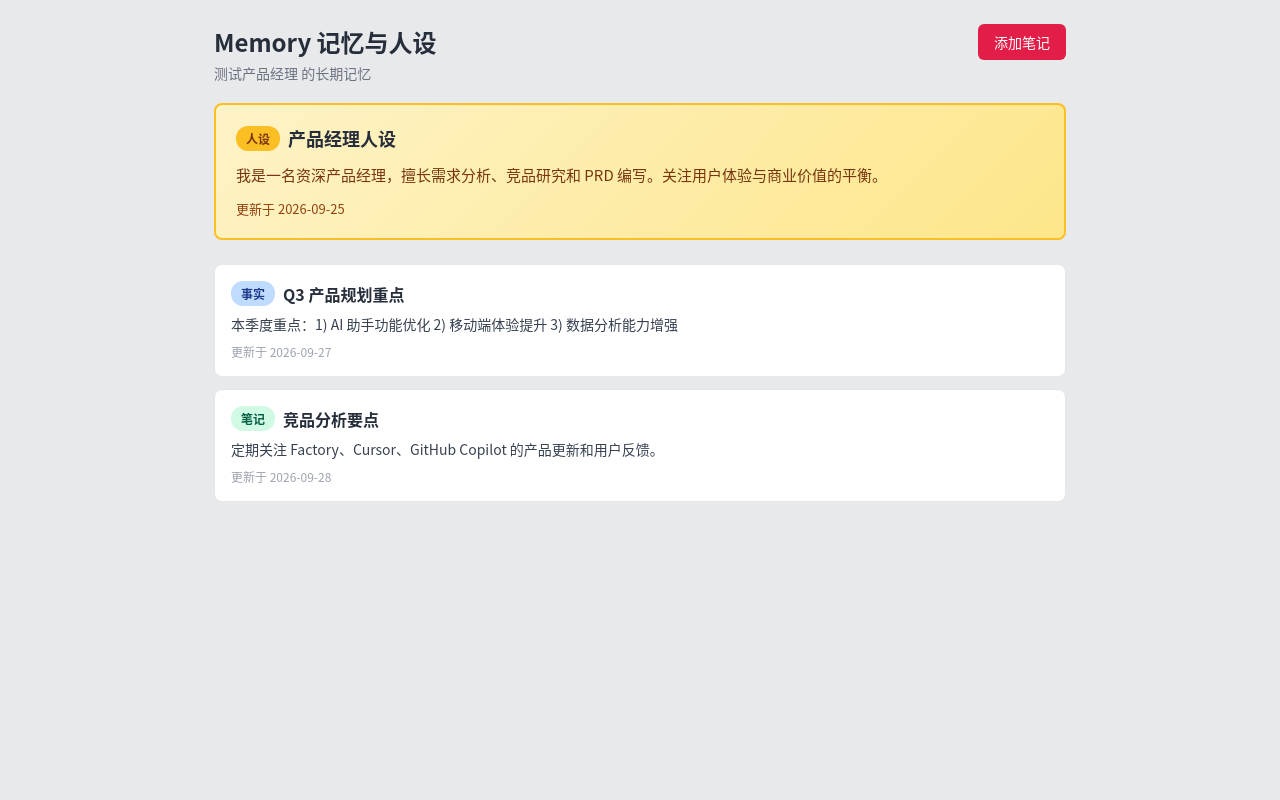
Test: TC-MEMORY-INTERACTIVE: Memory 添加笔记真反馈 › 场景 2: 填写+添加 → 笔记出现 + feedback › should add note to list and show feedback banner when submitted
// 1. 打开模态框
Click the button with class "btn-add".
click(1022, 42)  # box [978,24,1066,60]
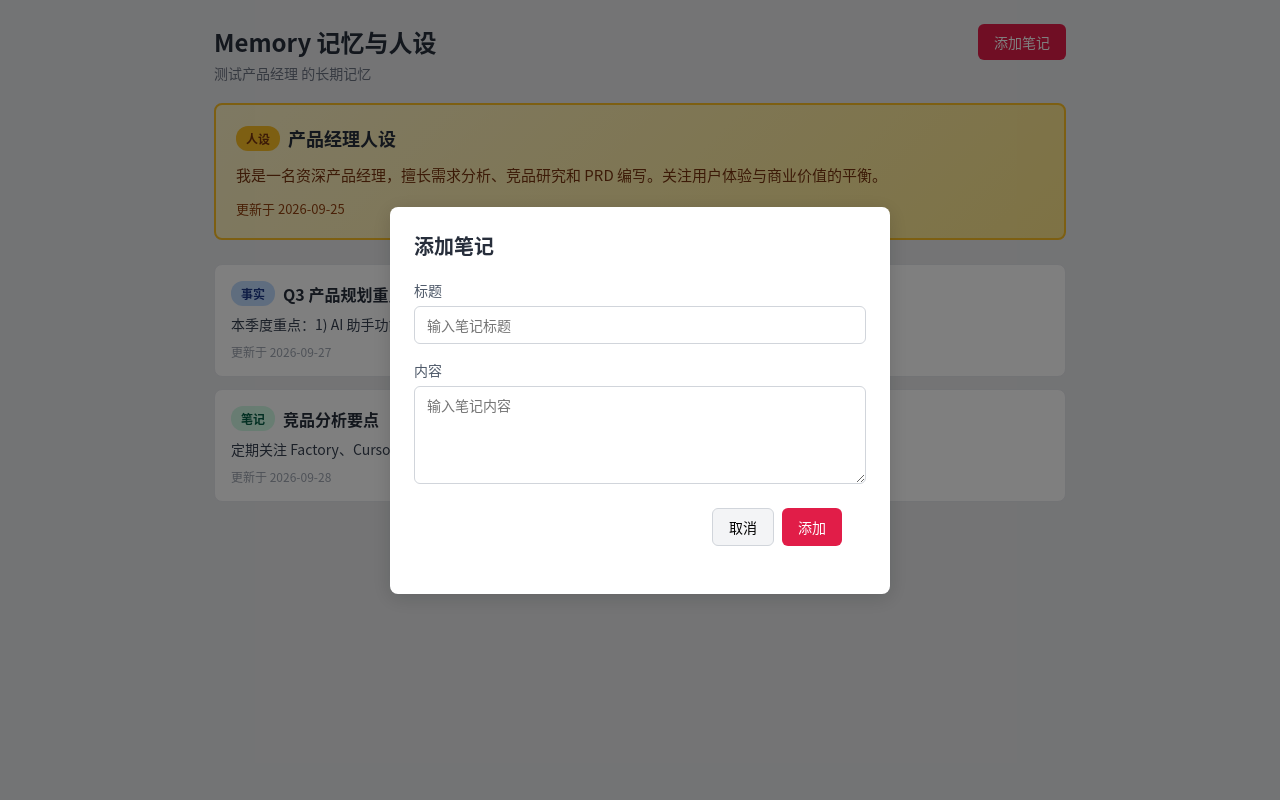
Expected: the element with class "modal-overlay" is shown
Type "测试笔记标题" into the field with placeholder "输入笔记标题".
click(640, 324); type("测试笔记标题")  # box [414,306,866,344]
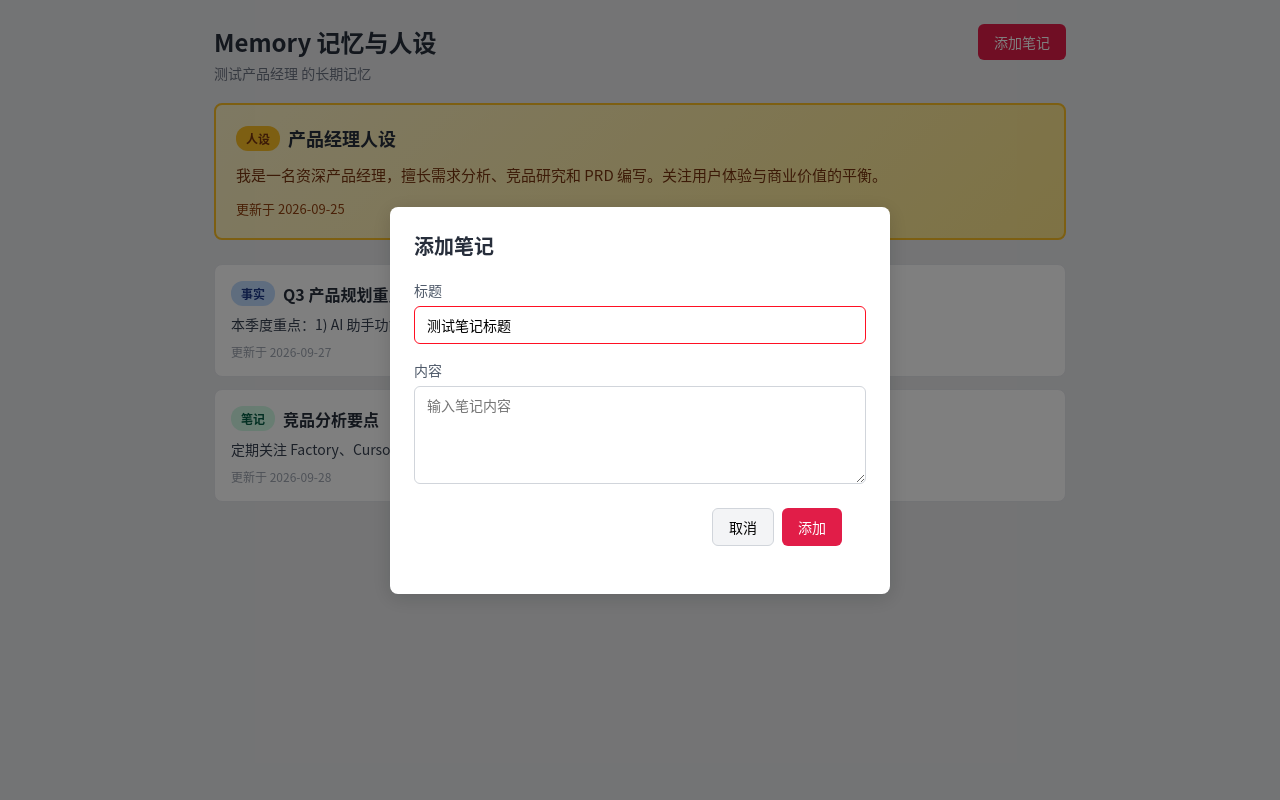
Type "这是测试笔记内容" into the text box with placeholder "输入笔记内容".
click(640, 434); type("这是测试笔记内容")  # box [414,386,866,484]
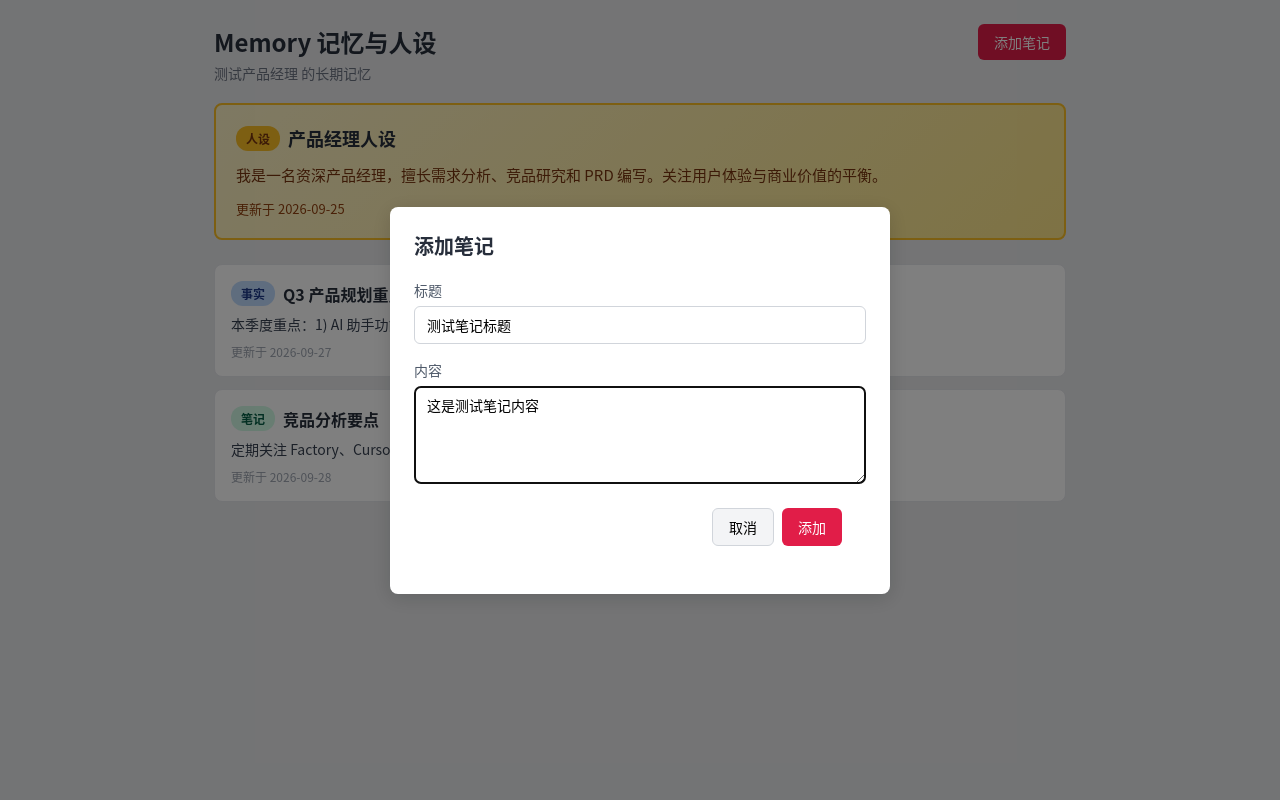
//  3. 点击添加
Click the button with class "btn-confirm".
click(812, 526)  # box [782,508,842,546]
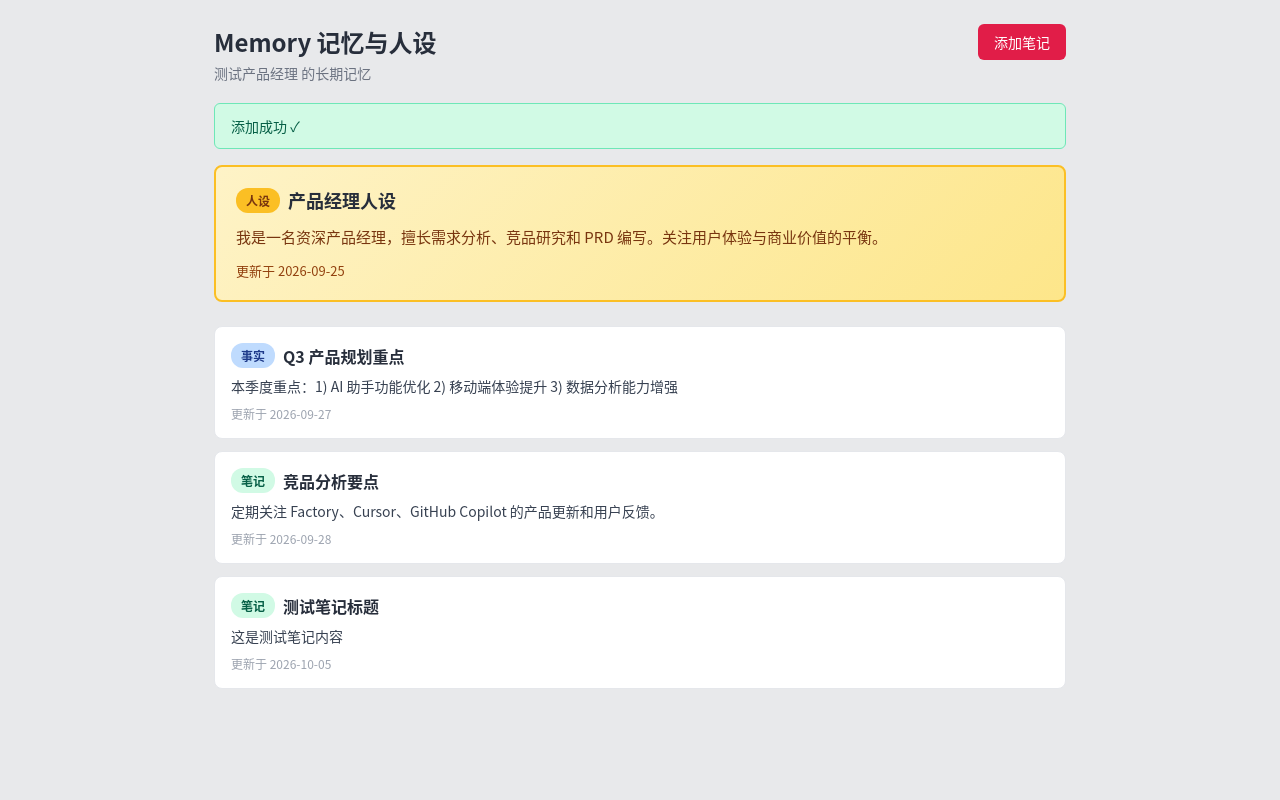
Expected: the element with class "modal-overlay" is gone
Expected: the text "添加成功 ✓" is shown, [214,103,1066,149]
Expected: the text with class "feedback-banner" shows "添加成功", [231,116,300,136]
